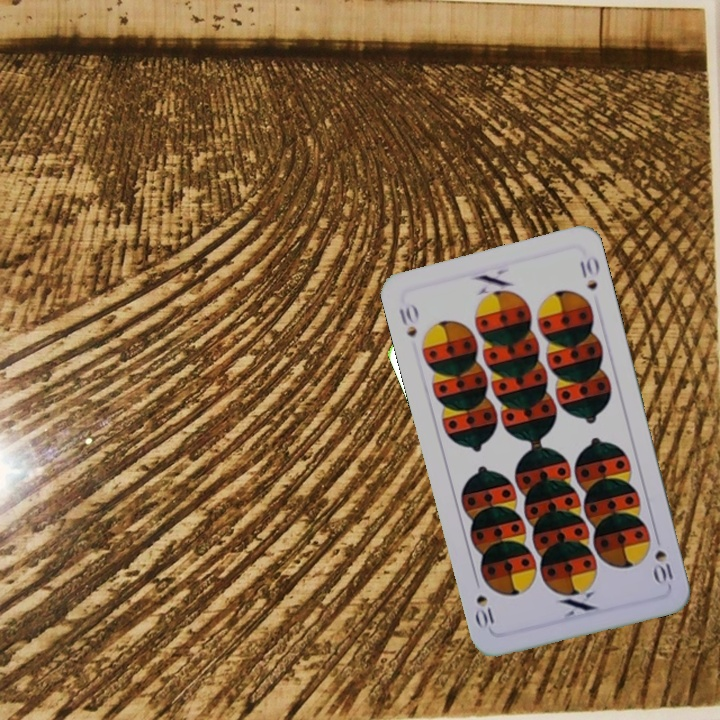S10: (395, 299, 422, 340), (650, 546, 676, 588)
